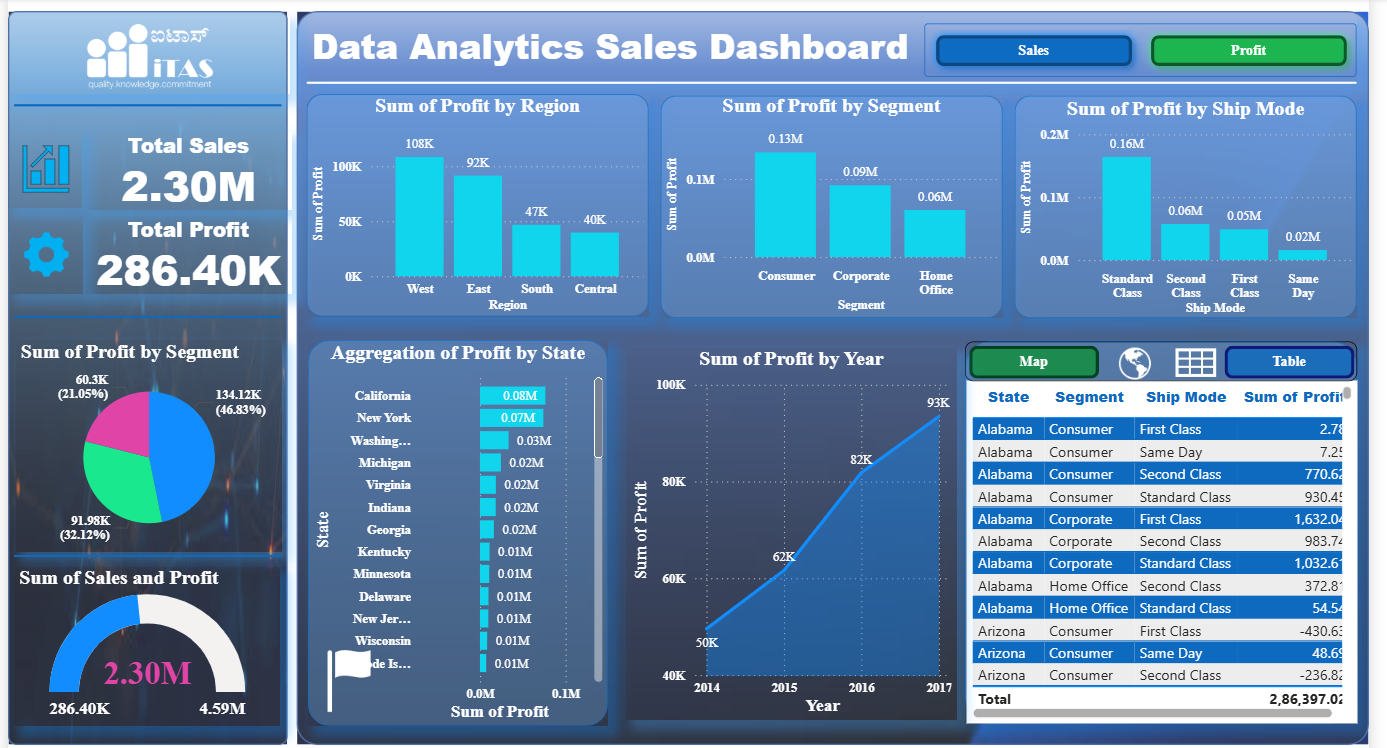

The page's visual inventory and layout, read from the dashboard file:
{"tool":"powerbi","page":{"name":"Profit","canvas":[1280,720],"ordinal":1},"visuals":[{"type":"image","box":[0,17.2,265.5,73.4],"z":0},{"type":"image","box":[0,123.4,70.3,73.4],"z":1000},{"type":"image","box":[1.6,204.6,68.7,73.4],"z":2000},{"type":"card","title":"Total Sales","fields":{"Values":["Sum(Data.Sales)"]},"box":[71.8,124.9,195.2,73.4],"z":3000},{"type":"card","title":"Total Profit","fields":{"Values":["Sum(Data.Profit)"]},"box":[71.8,204.6,195.2,73.4],"z":4000},{"type":"shape","box":[6.2,79.7,251.5,43.7],"z":5000},{"type":"shape","box":[6.2,278,251.5,43.7],"z":6000},{"type":"textbox","box":[281.1,17.2,987.1,62.5],"z":7000},{"type":"shape","box":[281.1,57.8,987.1,43.7],"z":8000},{"type":"shape","box":[281.1,90.6,321.7,209.3],"z":9000},{"type":"shape","box":[613.8,92.1,321.7,209.3],"z":10000},{"type":"shape","box":[946.5,92.1,321.7,209.3],"z":11000},{"type":"shape","box":[281.8,321.4,281.8,362.6],"z":12000},{"type":"shape","box":[899.6,321.7,368.6,360.8],"z":13000},{"type":"clusteredColumnChart","fields":{"Y":["Sum(Data.Profit)"],"Category":["Location.Region"]},"box":[281.1,90.6,321.7,209.3],"z":14000},{"type":"clusteredColumnChart","fields":{"Y":["Sum(Data.Profit)"],"Category":["Segment.Segment"]},"box":[613.8,90.6,321.7,209.3],"z":15000},{"type":"clusteredColumnChart","fields":{"Y":["Sum(Data.Profit)"],"Category":["ShipMode.Ship Mode"]},"box":[946.5,93.7,321.7,209.3],"z":16000},{"type":"clusteredBarChart","title":"Aggregation of Profit by State","fields":{"Category":["Location.State"],"Y":["Sum(Data.Profit)"]},"box":[281.8,323,281.8,360.9],"z":17000},{"type":"tableEx","fields":{"Values":["Location.State","Segment.Segment","ShipMode.Ship Mode","Sum(Data.Profit)"]},"box":[900.6,359.2,367.1,322.2],"z":19000},{"type":"bookmarkNavigator","box":[899.6,323.3,368.6,37.5],"z":20000},{"type":"pageNavigator","box":[862.1,23.4,406.1,50],"z":21000},{"type":"image","box":[1035.5,317,48.4,53.1],"z":22000},{"type":"image","box":[1083.9,313.9,64,56.2],"z":23000},{"type":"image","box":[281.1,601.3,79.7,82.8],"z":24000},{"type":"areaChart","fields":{"Category":["Data.Order Date.Variation.Date Hierarchy.Year"],"Y":["Sum(Data.Profit)"]},"box":[581,328,310.8,349.8],"z":25000},{"type":"pieChart","fields":{"Y":["Sum(Data.Profit)"],"Category":["Segment.Segment"]},"box":[6.6,321.4,250.5,199.4],"z":26000},{"type":"gauge","title":"Sum of Sales and Profit","fields":{"Y":["Sum(Data.Sales)"],"MinValue":["Sum(Data.Profit)"]},"box":[5.8,534.8,250.1,150.1],"z":30000},{"type":"shape","box":[5.8,504.1,252,42.3],"z":31000}]}

Visuals, with their boxes on the page's 1280x720 design canvas (x1, y1, x2, y2). These are canvas units, not pixel positions in the 1387x748 screenshot, which may show the page scaled, cropped or inside an application window:
image: 0,17,266,91
image: 0,123,70,197
image: 2,205,70,278
"Total Sales" card: 72,125,267,198
"Total Profit" card: 72,205,267,278
shape: 6,80,258,123
shape: 6,278,258,322
textbox: 281,17,1268,80
shape: 281,58,1268,102
shape: 281,91,603,300
shape: 614,92,936,301
shape: 946,92,1268,301
shape: 282,321,564,684
shape: 900,322,1268,682
clusteredColumnChart - Sum(Data.Profit) x Location.Region: 281,91,603,300
clusteredColumnChart - Sum(Data.Profit) x Segment.Segment: 614,91,936,300
clusteredColumnChart - Sum(Data.Profit) x ShipMode.Ship Mode: 946,94,1268,303
"Aggregation of Profit by State" clusteredBarChart: 282,323,564,684
tableEx - Location.State x Segment.Segment: 901,359,1268,681
bookmarkNavigator: 900,323,1268,361
pageNavigator: 862,23,1268,73
image: 1036,317,1084,370
image: 1084,314,1148,370
image: 281,601,361,684
areaChart - Data.Order Date.Variation.Date Hierarchy.Year x Sum(Data.Profit): 581,328,892,678
pieChart - Sum(Data.Profit) x Segment.Segment: 7,321,257,521
"Sum of Sales and Profit" gauge: 6,535,256,685
shape: 6,504,258,546
